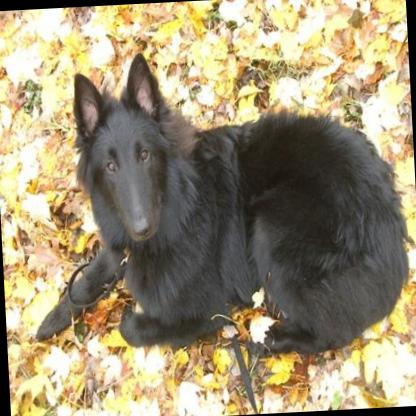groenendael: (20, 41, 416, 367)
